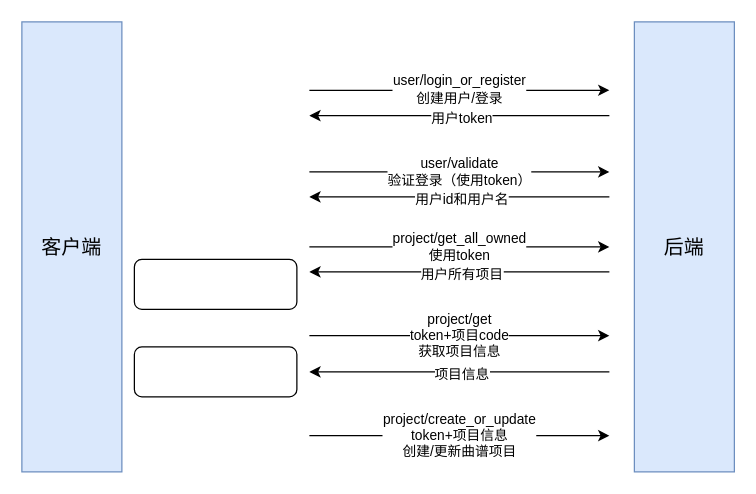
Image size: 756x494. Some labels were removed from this diagram. The shapes that lost their labels are listed below. From the top down, each one's centre as x and y in pixels, then its label:
At (x=215, y=283): "本地没有的：添加 本地已有的：使用更新的".
At (x=215, y=371): "使用更新的，如果本地更新，立刻调用一次update".
